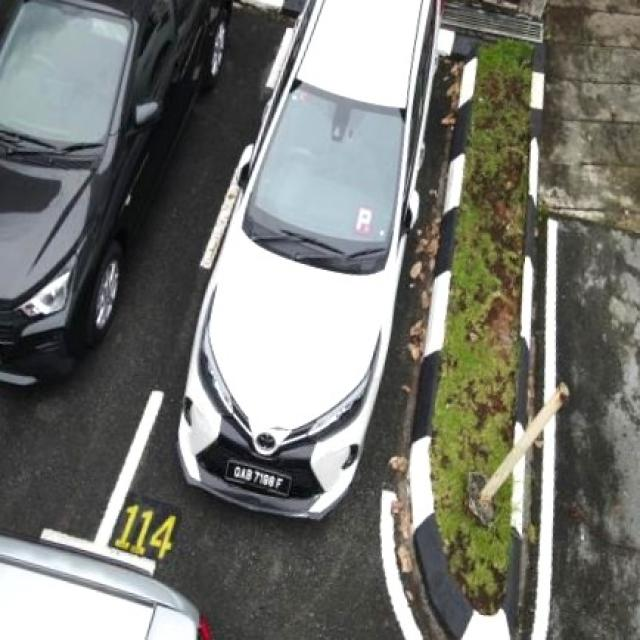Legalparking: (160, 0, 451, 519)
